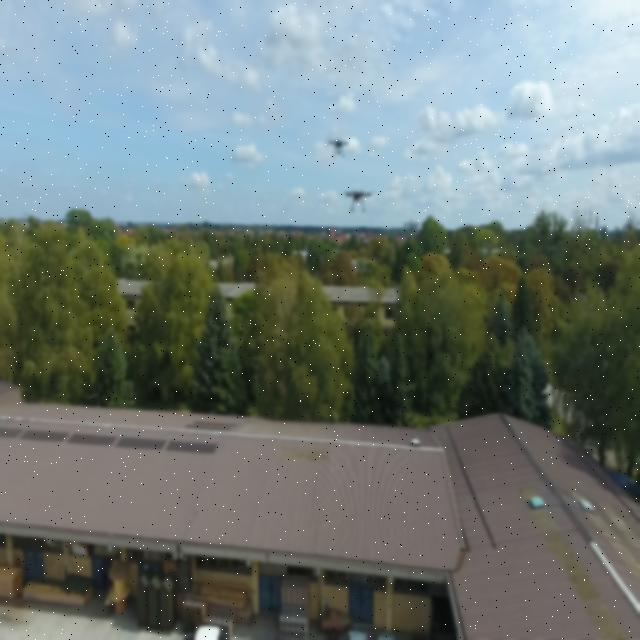UAV: (321, 130, 358, 166), (334, 186, 382, 212)
